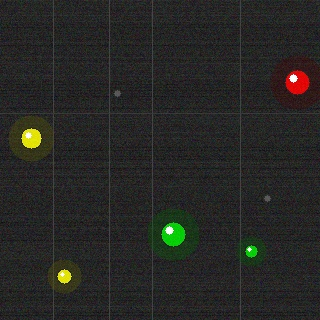green_normal: (159, 220, 187, 248), (243, 243, 259, 259)
red_fault: (283, 68, 311, 96)
yellow_warning: (19, 126, 43, 150), (55, 267, 73, 285)
